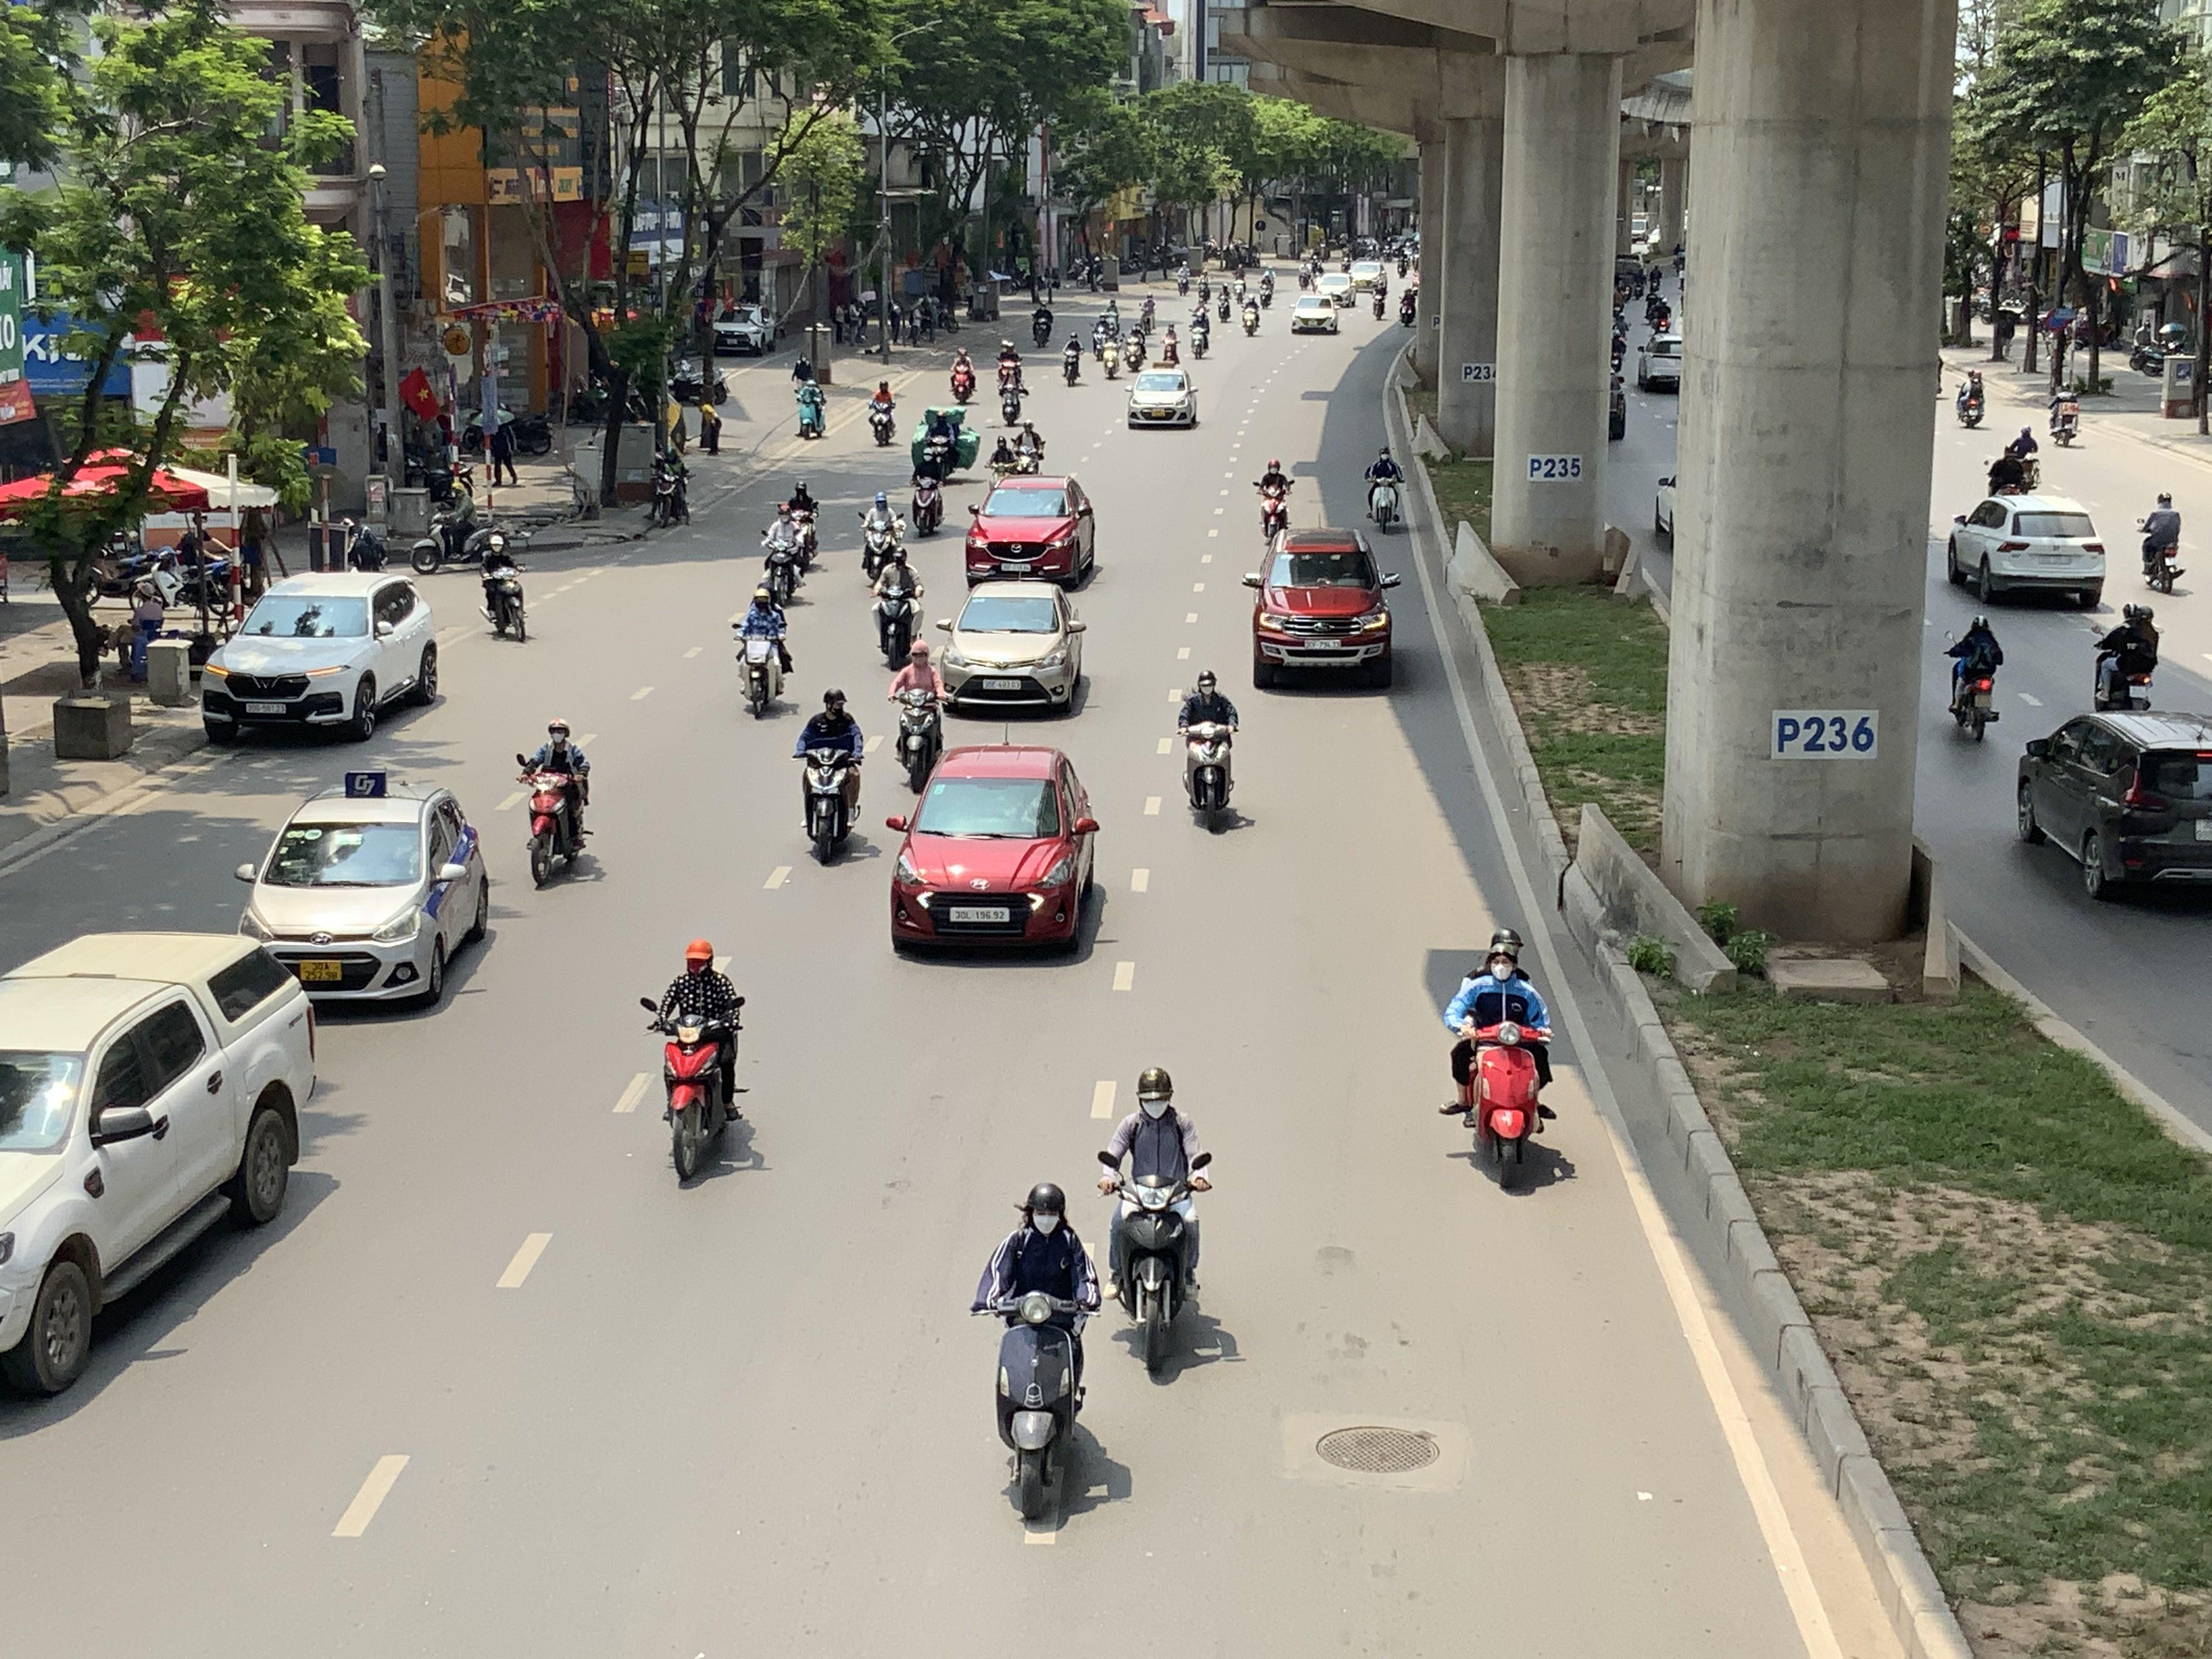BSD: (951, 908, 1010, 924), (246, 702, 286, 713), (982, 680, 1021, 690), (1305, 640, 1341, 650)
BSV: (298, 960, 341, 983)
car: (0, 929, 320, 1401), (235, 782, 493, 1011), (885, 742, 1106, 960), (199, 570, 442, 744), (2015, 709, 2212, 904), (1242, 526, 1399, 688), (937, 579, 1090, 716), (1946, 491, 2107, 608), (963, 474, 1099, 591), (1125, 366, 1198, 429), (711, 303, 777, 356), (1291, 293, 1339, 335)
motorbike: (974, 1182, 1099, 1532), (1099, 1066, 1214, 1382), (1444, 929, 1555, 1194), (644, 938, 749, 1188), (517, 716, 597, 890), (796, 687, 866, 866), (1176, 669, 1244, 835), (887, 640, 951, 795), (2090, 599, 2161, 714), (733, 586, 794, 720), (411, 479, 495, 573), (1946, 610, 2003, 744), (869, 542, 925, 667), (479, 533, 529, 641), (2137, 491, 2188, 594), (859, 488, 907, 584), (759, 505, 806, 605), (646, 444, 693, 530), (780, 477, 822, 572), (1987, 425, 2041, 497), (1254, 455, 1296, 545), (1364, 443, 1406, 532), (907, 451, 948, 538), (1007, 411, 1047, 476), (923, 410, 956, 486), (864, 376, 899, 446), (993, 350, 1026, 423), (2048, 380, 2081, 448), (1954, 366, 1987, 429), (796, 378, 829, 439), (948, 345, 979, 406), (1059, 328, 1085, 387), (1101, 324, 1127, 380), (1188, 303, 1214, 359), (1029, 296, 1055, 350), (1160, 314, 1183, 364)
